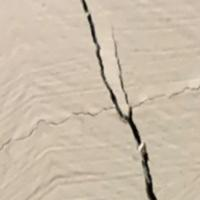crack: (80, 0, 162, 199)
